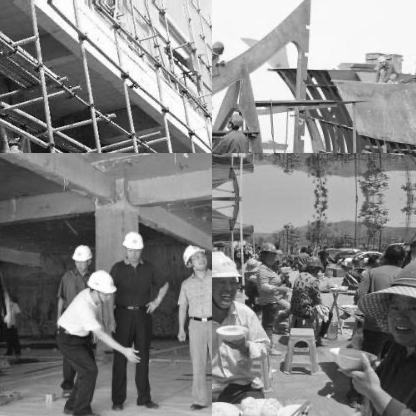Helmet: (388, 256, 415, 342), (212, 248, 243, 308), (87, 269, 116, 303), (118, 229, 144, 259), (183, 242, 209, 271), (70, 239, 92, 271), (0, 133, 23, 152), (258, 239, 276, 263), (302, 254, 322, 272), (222, 113, 242, 129), (212, 39, 225, 57), (375, 53, 387, 65)
